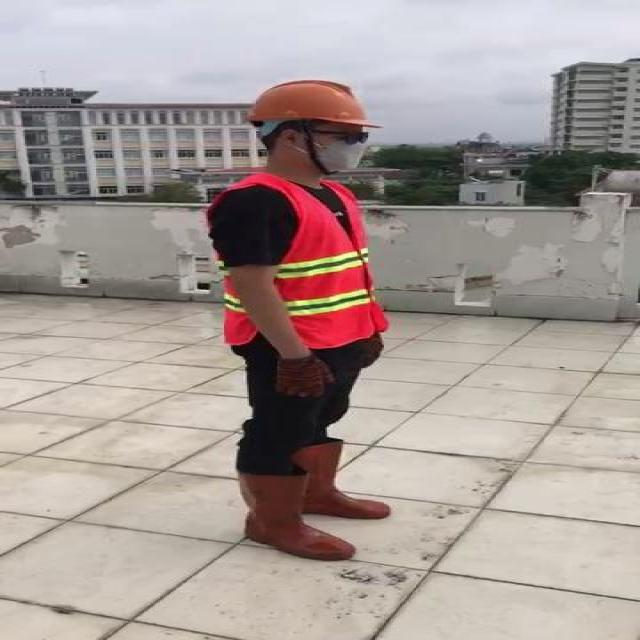boots: (240, 471, 357, 561), (292, 440, 389, 521)
face_mask: (310, 124, 374, 176)
glasses: (325, 120, 379, 150)
hand_glove: (276, 358, 334, 397)
head_helmet: (239, 78, 380, 130)
person: (196, 72, 412, 568)
vest: (210, 183, 384, 350)
